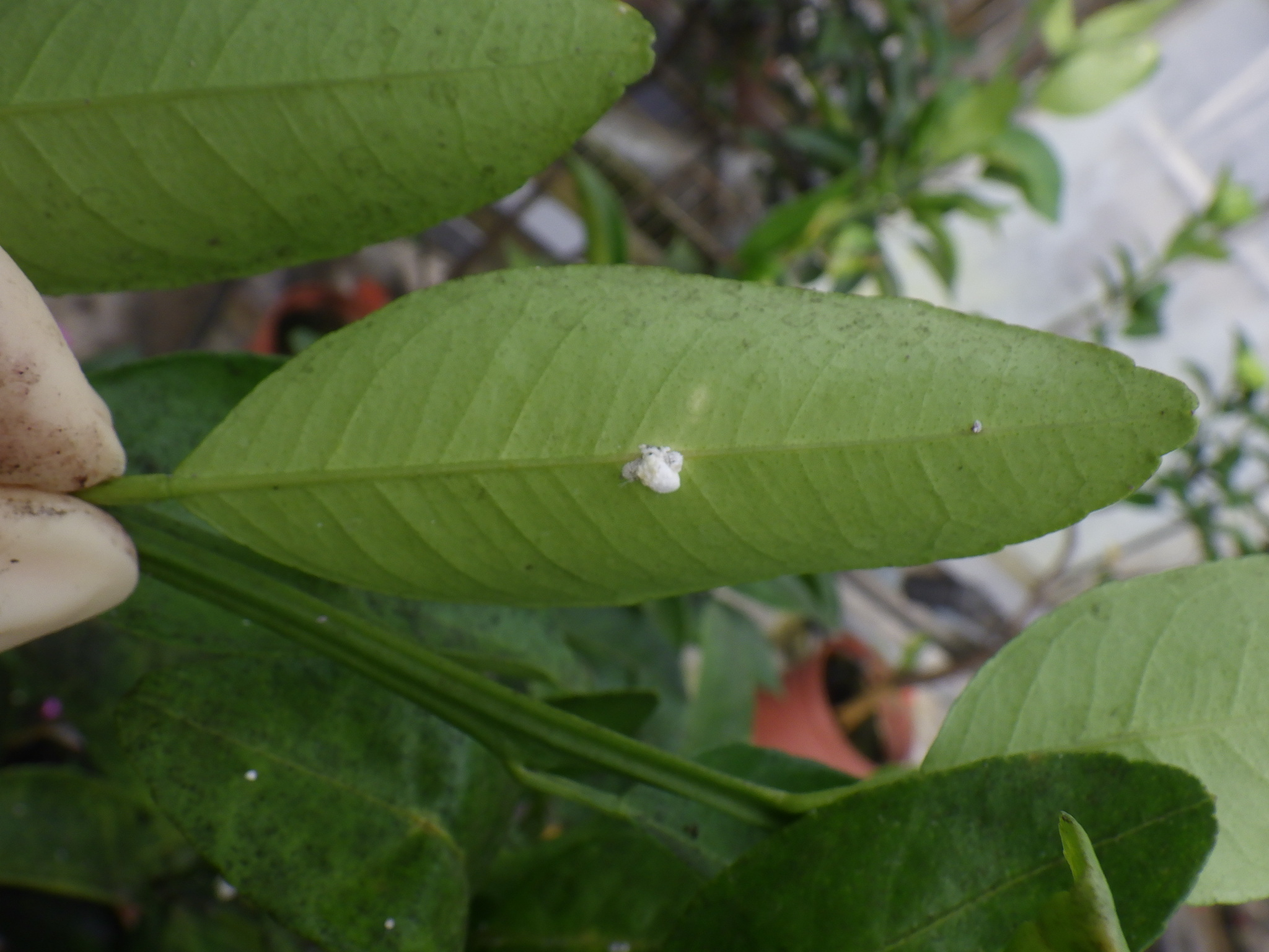Scale_Insect: (636, 444, 683, 493)
